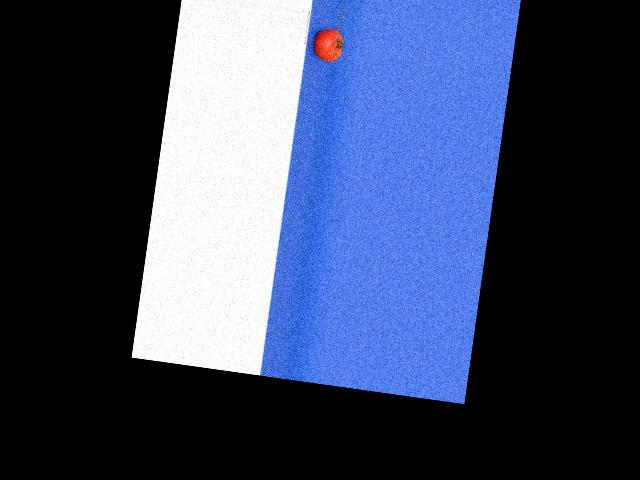tomato: (312, 27, 345, 63)
